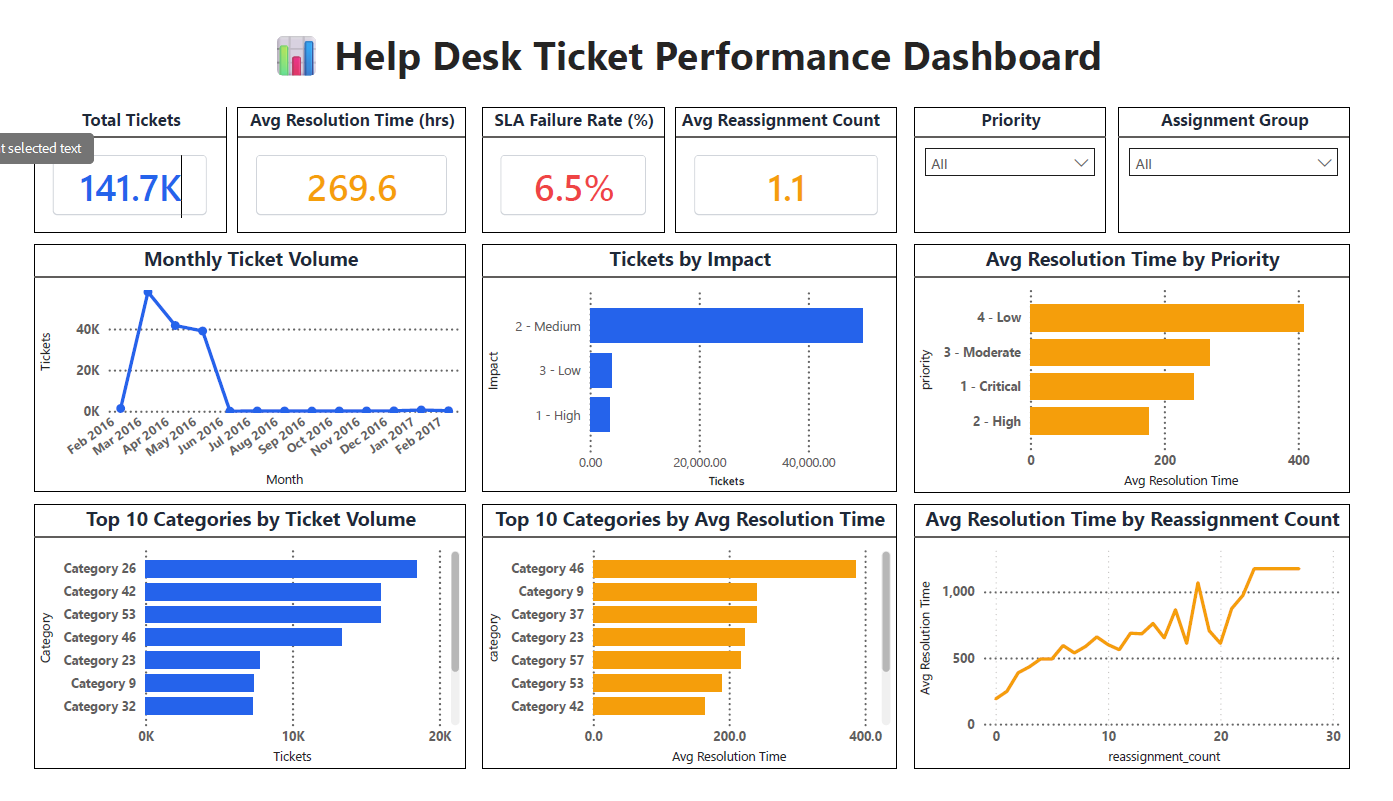

The page's visual inventory and layout, read from the dashboard file:
{"tool":"powerbi","page":{"name":"Page 1","canvas":[1280,720],"ordinal":0},"visuals":[{"type":"cardVisual","title":"Total Tickets","fields":{"Data":["CountNonNull(help_desk_cleaned.number)"]},"box":[11.4,80,182.9,120],"z":0},{"type":"cardVisual","title":"Avg Resolution Time (hrs)","fields":{"Data":["help_desk_cleaned.Avg Resolution Time"]},"box":[204.3,80,217.1,120],"z":1000},{"type":"cardVisual","title":"SLA Failure Rate (%)","fields":{"Data":["Avg(help_desk_cleaned.SLA Failure Rate %)"]},"box":[435.7,80,174.3,120],"z":2000},{"type":"cardVisual","title":"Avg Reassignment Count","fields":{"Data":["Avg(help_desk_cleaned.reassignment_count)"]},"box":[620,80,210,120],"z":3000},{"type":"lineChart","title":"Monthly Ticket Volume","fields":{"Category":["help_desk_cleaned.Month Year"],"Y":["CountNonNull(help_desk_cleaned.number)"]},"box":[11.4,210,410,235.7],"z":4000},{"type":"slicer","title":"Priority","fields":{"Values":["help_desk_cleaned.priority"]},"box":[845.7,80,182.9,120],"z":5000},{"type":"clusteredBarChart","title":"Tickets by Impact","fields":{"Y":["CountNonNull(help_desk_cleaned.number)"],"Category":["help_desk_cleaned.impact"]},"box":[435.7,210,394.3,235.7],"z":6000},{"type":"slicer","title":"Assignment Group","fields":{"Values":["help_desk_cleaned.Assignment Group Clean"]},"box":[1040,80,220,120],"z":7000},{"type":"clusteredBarChart","title":"Top 10 Categories by Ticket Volume","fields":{"Category":["help_desk_cleaned.category"],"Y":["CountNonNull(help_desk_cleaned.number)"]},"box":[11.4,457.1,410,251.4],"z":8000},{"type":"clusteredBarChart","title":"Top 10 Categories by Avg Resolution Time","fields":{"Category":["help_desk_cleaned.category"],"Y":["help_desk_cleaned.Avg Resolution Time"]},"box":[435.7,457.1,394.3,251.4],"z":9000},{"type":"clusteredBarChart","title":"Avg Resolution Time by Priority","fields":{"Category":["help_desk_cleaned.priority"],"Y":["help_desk_cleaned.Avg Resolution Time"]},"box":[845.7,210,414.3,237.1],"z":10000},{"type":"lineChart","title":"Avg Resolution Time by Reassignment Count","fields":{"Y":["help_desk_cleaned.Avg Resolution Time"],"Category":["help_desk_cleaned.reassignment_count"]},"box":[845.7,457.1,414.3,251.4],"z":11000},{"type":"textbox","box":[0,0,1260,70],"z":12000}]}

Visuals, with their boxes in screenshot pixels (x1, y1, x2, y2), scaled from the page's 1280x720 canvas onto the 1393x801 screenshot:
"Total Tickets" cardVisual: [left=12, top=89, right=211, bottom=222]
"Avg Resolution Time (hrs)" cardVisual: [left=222, top=89, right=459, bottom=222]
"SLA Failure Rate (%)" cardVisual: [left=474, top=89, right=664, bottom=222]
"Avg Reassignment Count" cardVisual: [left=675, top=89, right=903, bottom=222]
"Monthly Ticket Volume" lineChart: [left=12, top=234, right=459, bottom=496]
"Priority" slicer: [left=920, top=89, right=1119, bottom=222]
"Tickets by Impact" clusteredBarChart: [left=474, top=234, right=903, bottom=496]
"Assignment Group" slicer: [left=1132, top=89, right=1371, bottom=222]
"Top 10 Categories by Ticket Volume" clusteredBarChart: [left=12, top=509, right=459, bottom=788]
"Top 10 Categories by Avg Resolution Time" clusteredBarChart: [left=474, top=509, right=903, bottom=788]
"Avg Resolution Time by Priority" clusteredBarChart: [left=920, top=234, right=1371, bottom=497]
"Avg Resolution Time by Reassignment Count" lineChart: [left=920, top=509, right=1371, bottom=788]
textbox: [left=0, top=0, right=1371, bottom=78]
